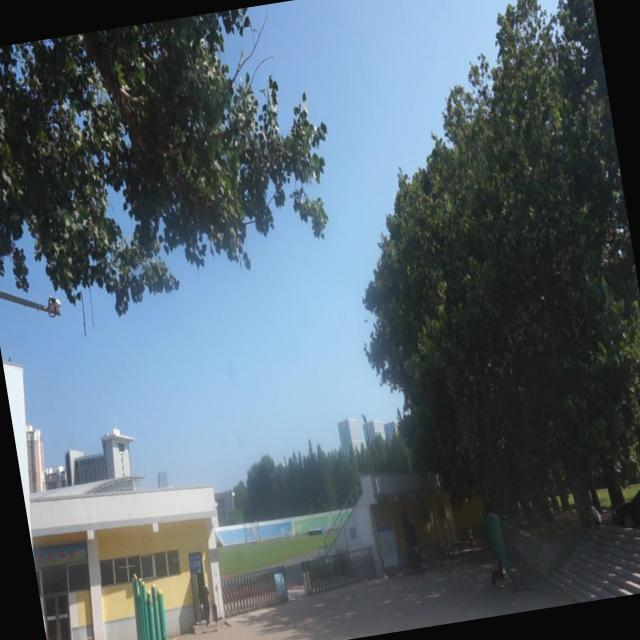drone: (359, 312, 374, 329)
